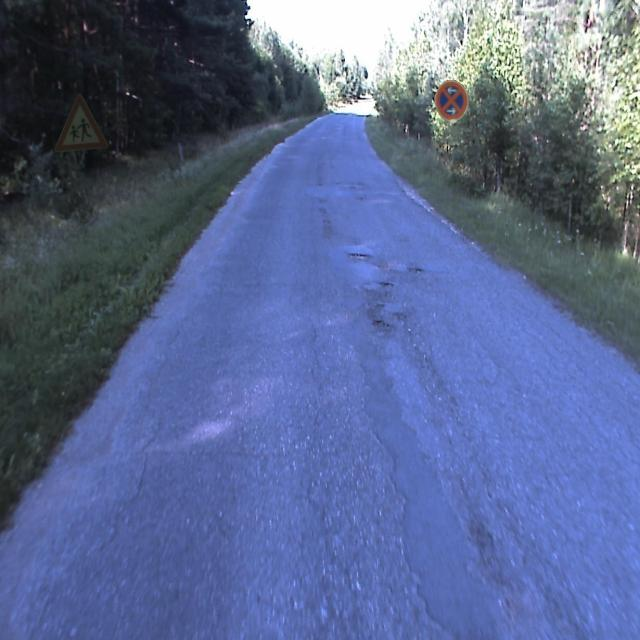road: (0, 113, 639, 639)
